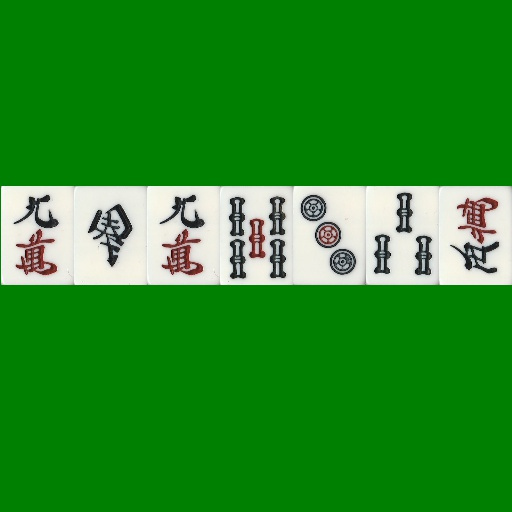3p: (293, 186, 366, 285)
3s: (366, 186, 439, 285)
5m: (439, 186, 512, 285)
5s: (220, 186, 293, 285)
9m: (1, 186, 74, 285), (147, 186, 220, 285)
south: (74, 186, 147, 285)
